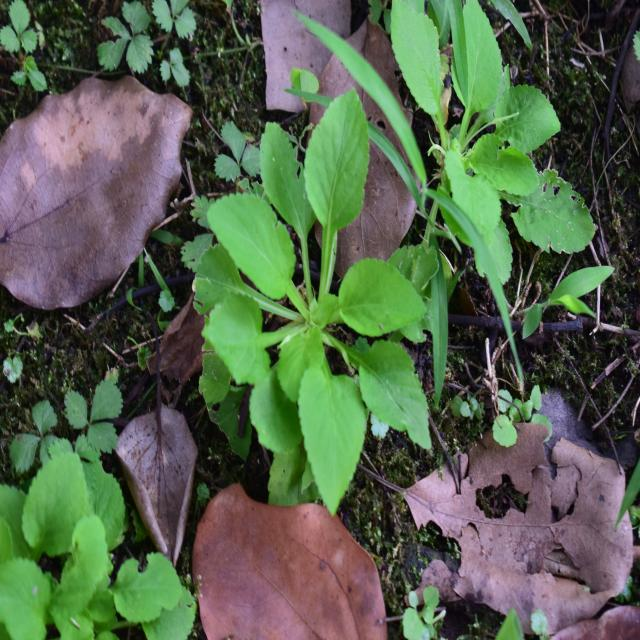Viola: (172, 109, 441, 522)
